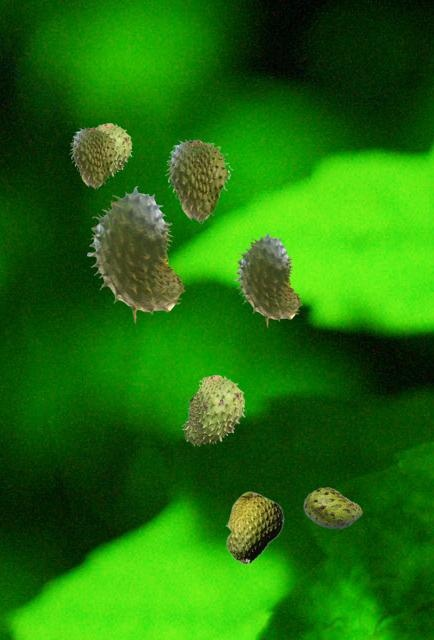guyabano: (87, 186, 184, 322), (234, 232, 301, 326), (165, 139, 232, 222), (181, 375, 244, 445), (225, 491, 283, 564), (69, 127, 119, 188), (303, 487, 361, 528), (96, 123, 131, 178)
